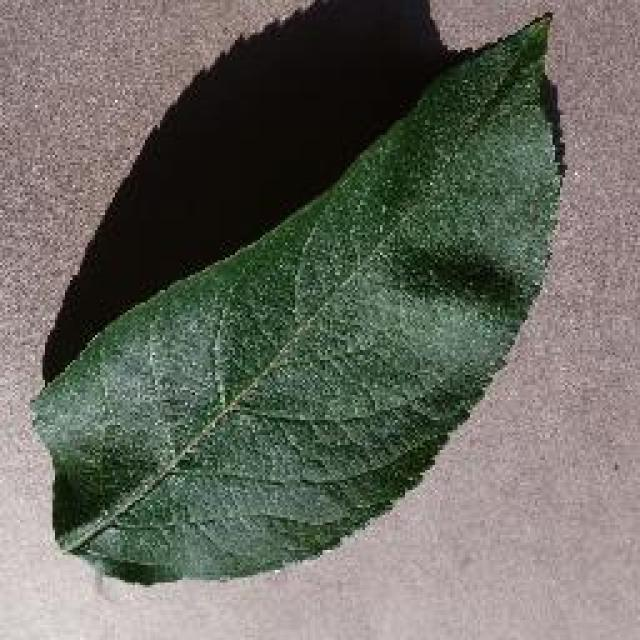apple healthy: (28, 0, 568, 585)
